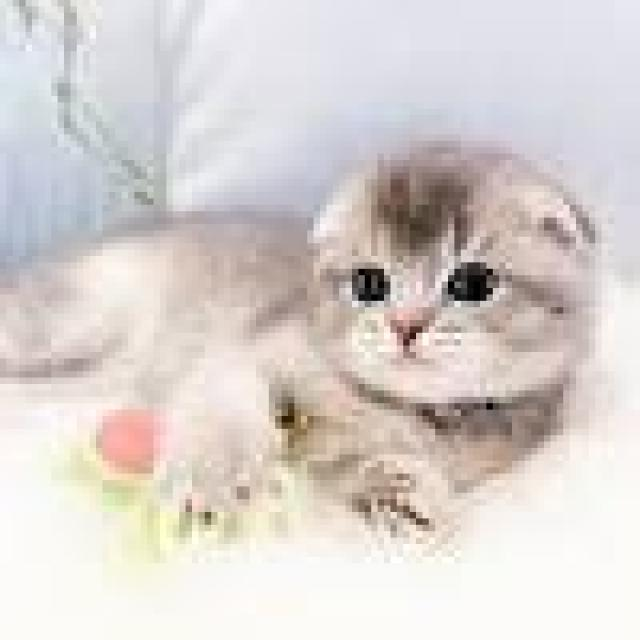cat-face: (245, 111, 612, 437)
